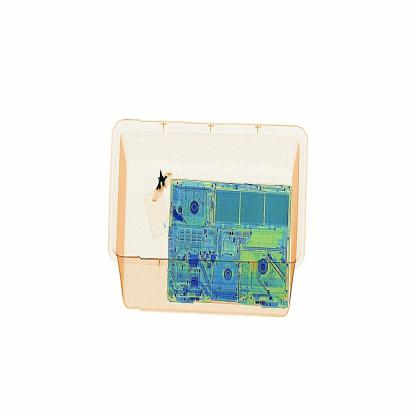gun: (151, 161, 177, 210)
